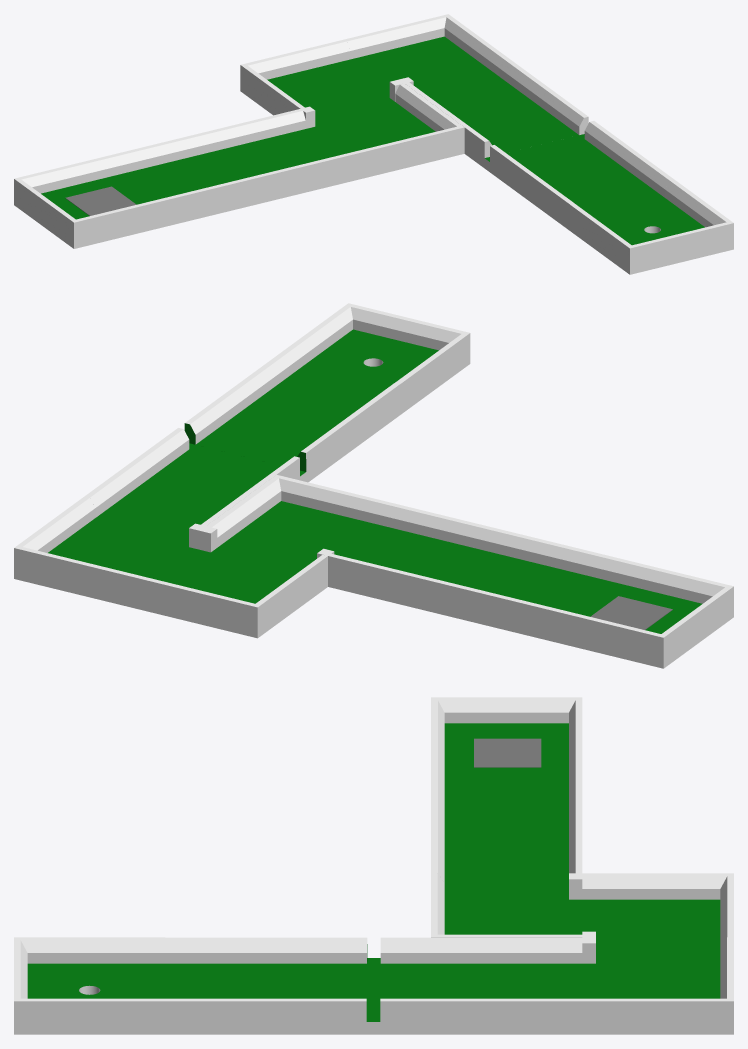
File: Level5Model.obj
3 views of the same model, one above another, from view 1: azimuth 30°, elevation 25°; view 2: azimuth 150°, elevation 25°; view 3: azimuth 270°, elevation 25° (orthographic). The views are drawn at different scales.
Visible parts, largest first — view 1: polySurface607; view 2: polySurface607; view 3: polySurface607.
Boxes of the visible parts, <box> form: polySurface607: <box>14,14,733,274</box>; polySurface607: <box>14,303,733,668</box>; polySurface607: <box>14,697,733,1034</box>.
Bounding box in the file's own units: 10.65 × 0.5445 × 10.65.
Materials: 6 (5 with a texture image).
